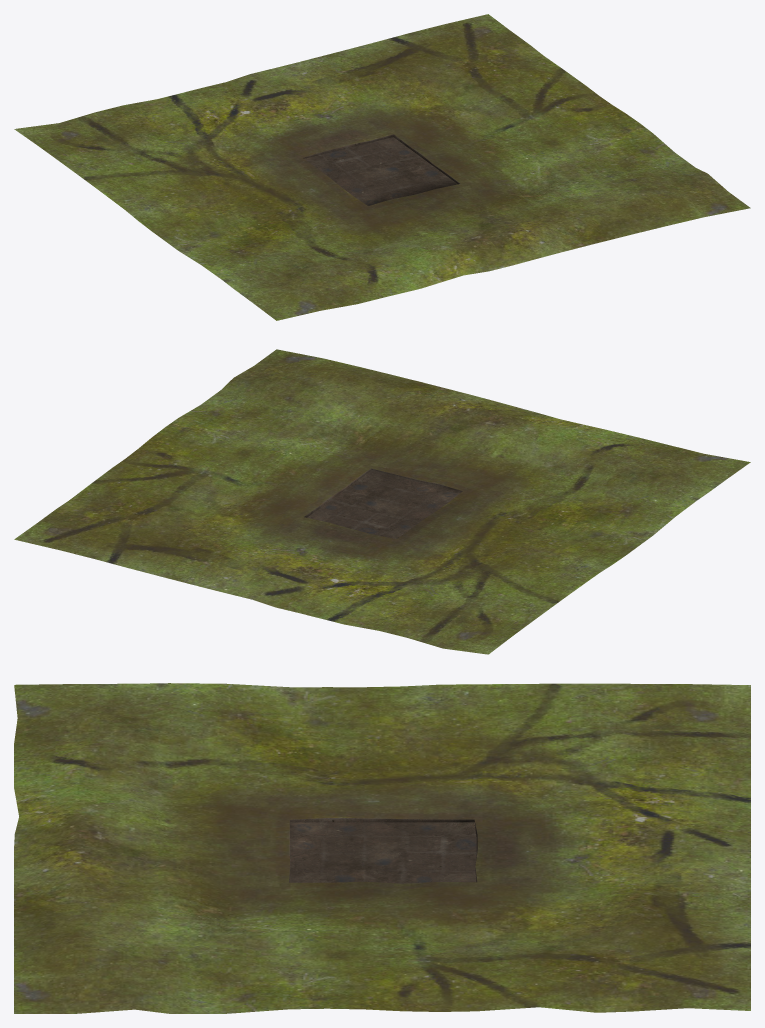
File: raskop_4.FBX
The picture shows the model from 3 angles, top to bottom: view 1: azimuth 30°, elevation 25°; view 2: azimuth 150°, elevation 25°; view 3: azimuth 270°, elevation 25°; orthographic projection. The views are drawn at different scales.
Parts seen in each view (by area): view 1: Plane002; view 2: Plane002; view 3: Plane002.
Boxes of the visible parts, <box> form: Plane002: <box>14,14,750,320</box>; Plane002: <box>14,349,750,654</box>; Plane002: <box>14,683,750,1013</box>.
Size of the model in its own units: 41223 by 1199 by 39513.
